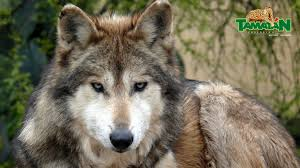Lobo: (37, 3, 246, 168)
